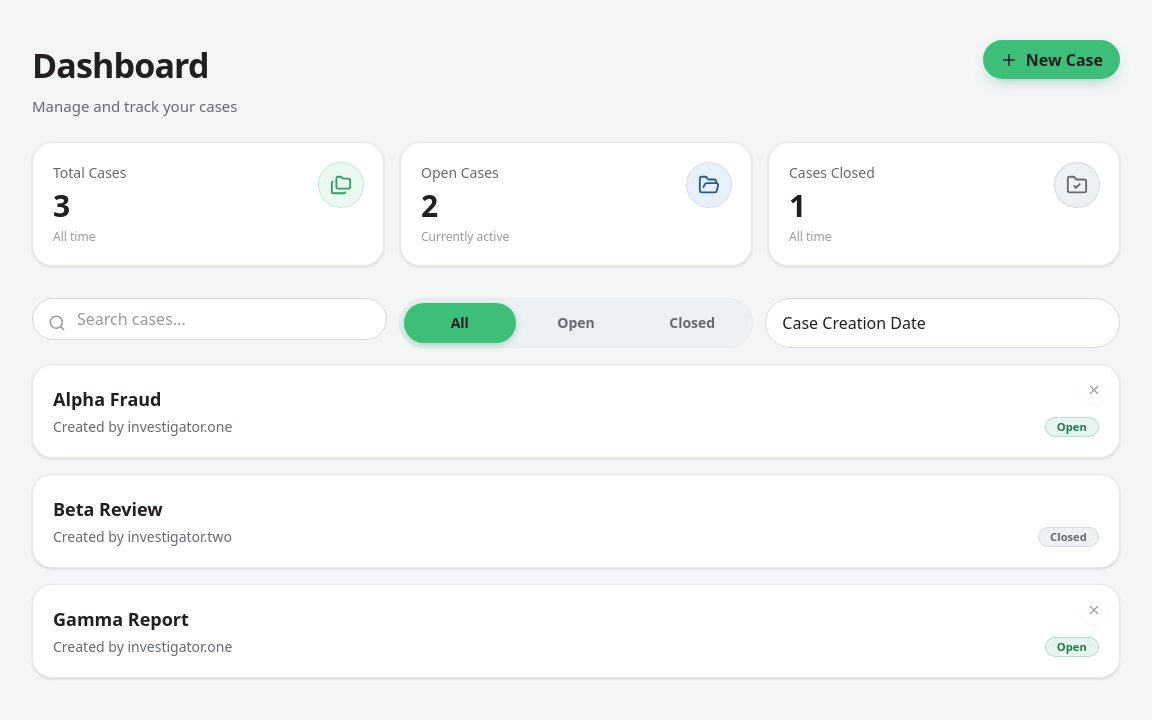
Dashboard (integration) › shows an error in the create case modal when creation fails without closing it
Click the button "New Case" at (1051, 60), box [983,40,1120,79]
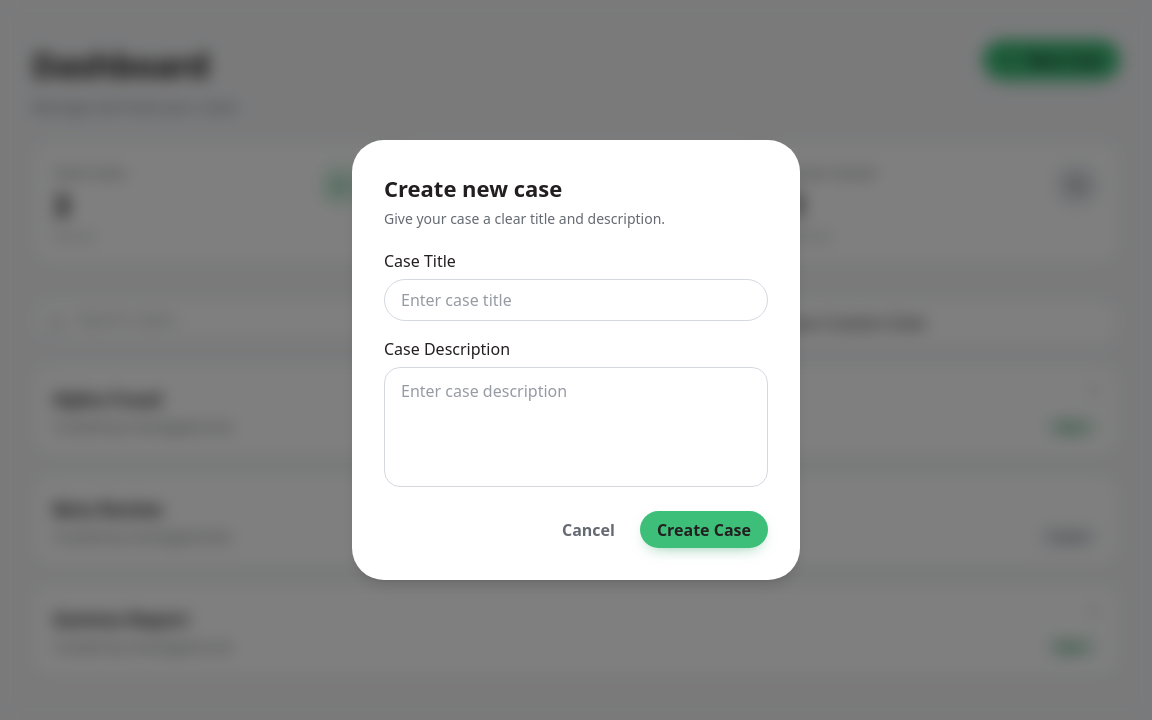
Type "Delta Investigation" into the field with placeholder "Enter case title" at (576, 300), box [384,279,768,321]
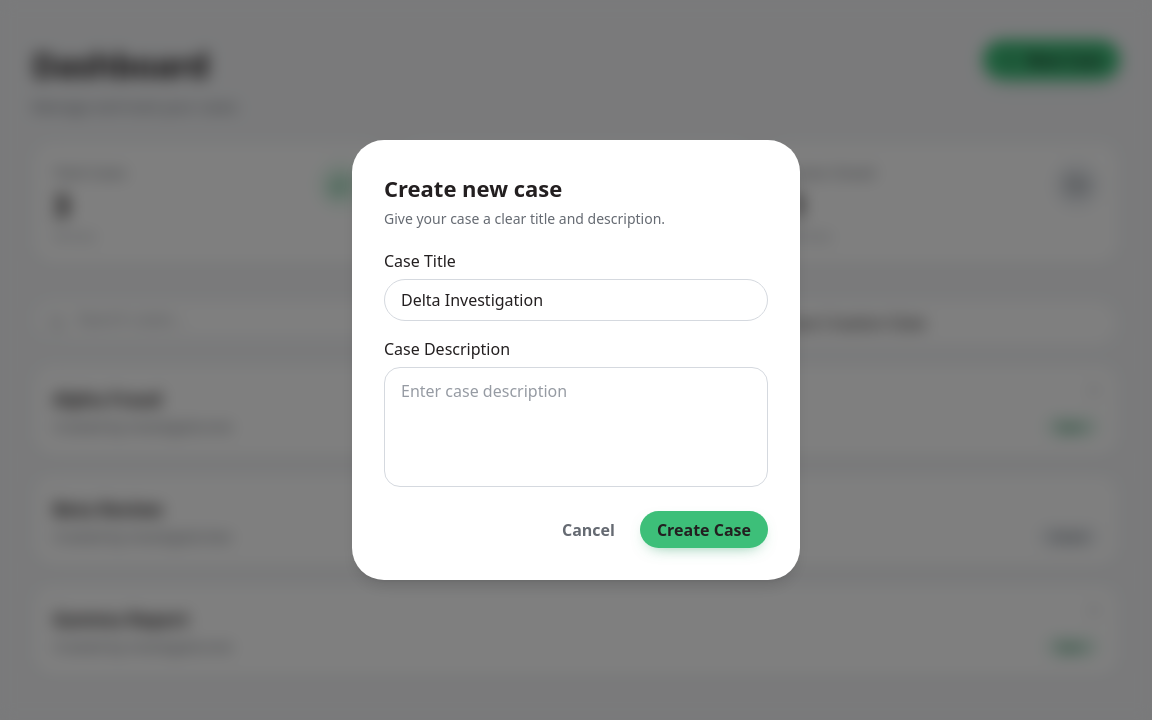
Type "New lead" into the text box with placeholder "Enter case description" at (576, 427), box [384,367,768,487]
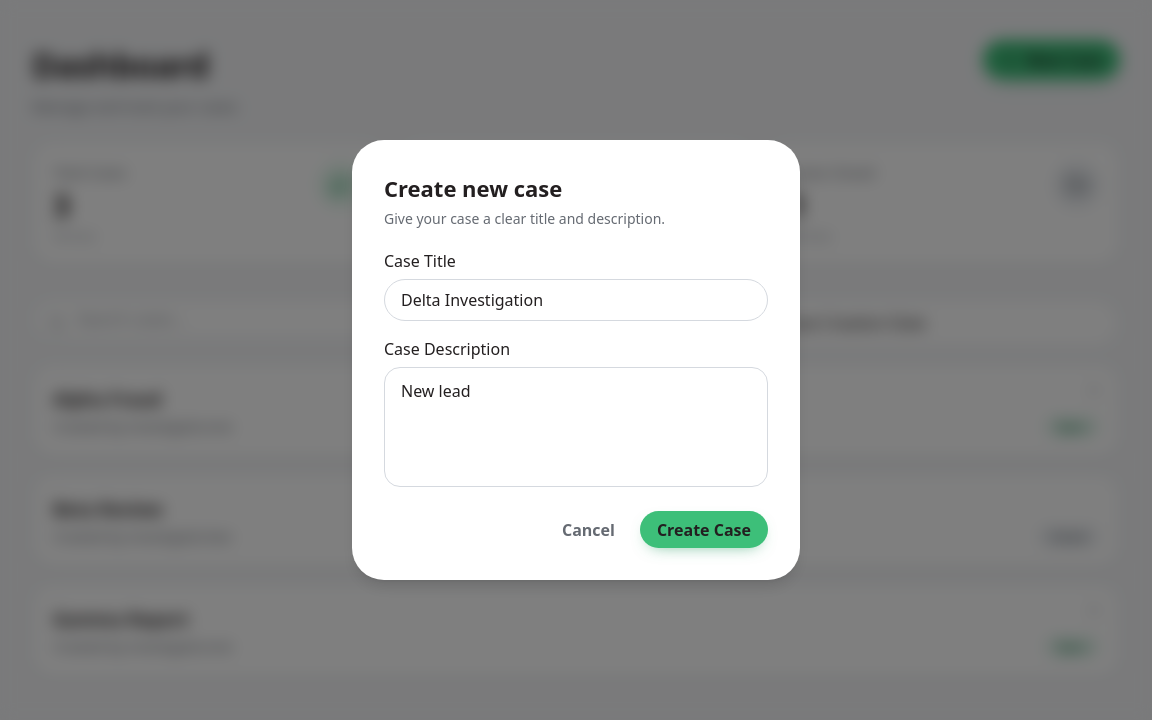
Click the button "Create Case" at (704, 530), box [640,511,768,548]
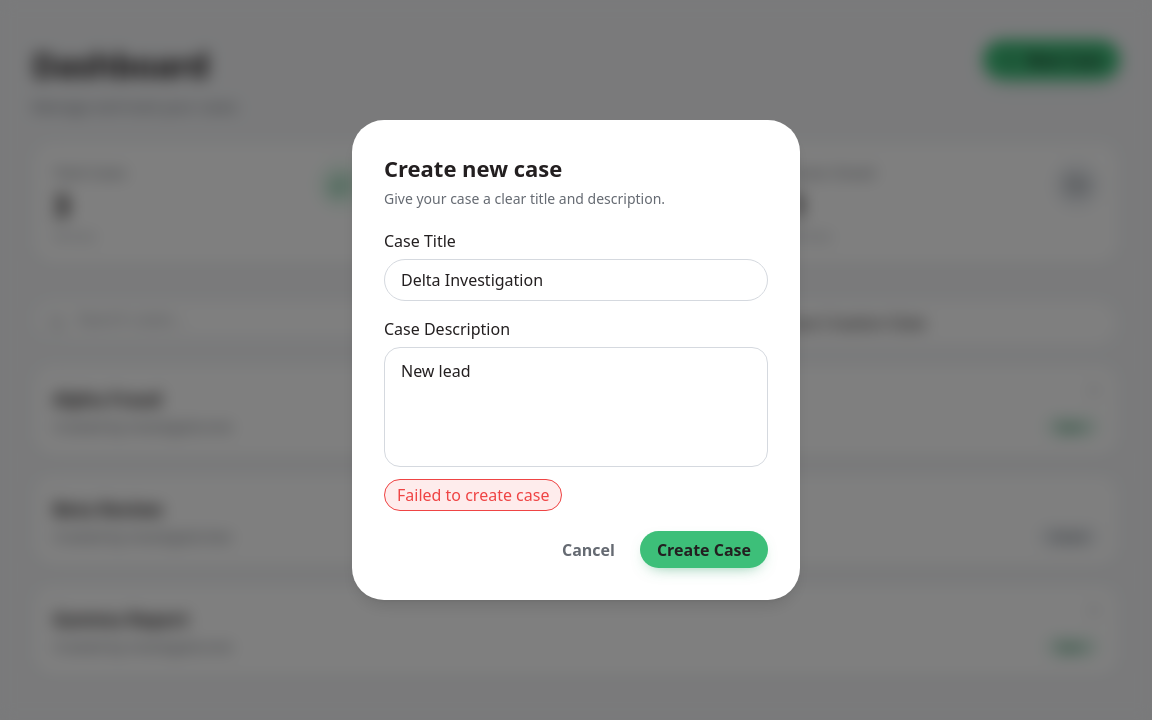
expect the text "Failed to create case" is shown: met, box [384,479,562,511]
